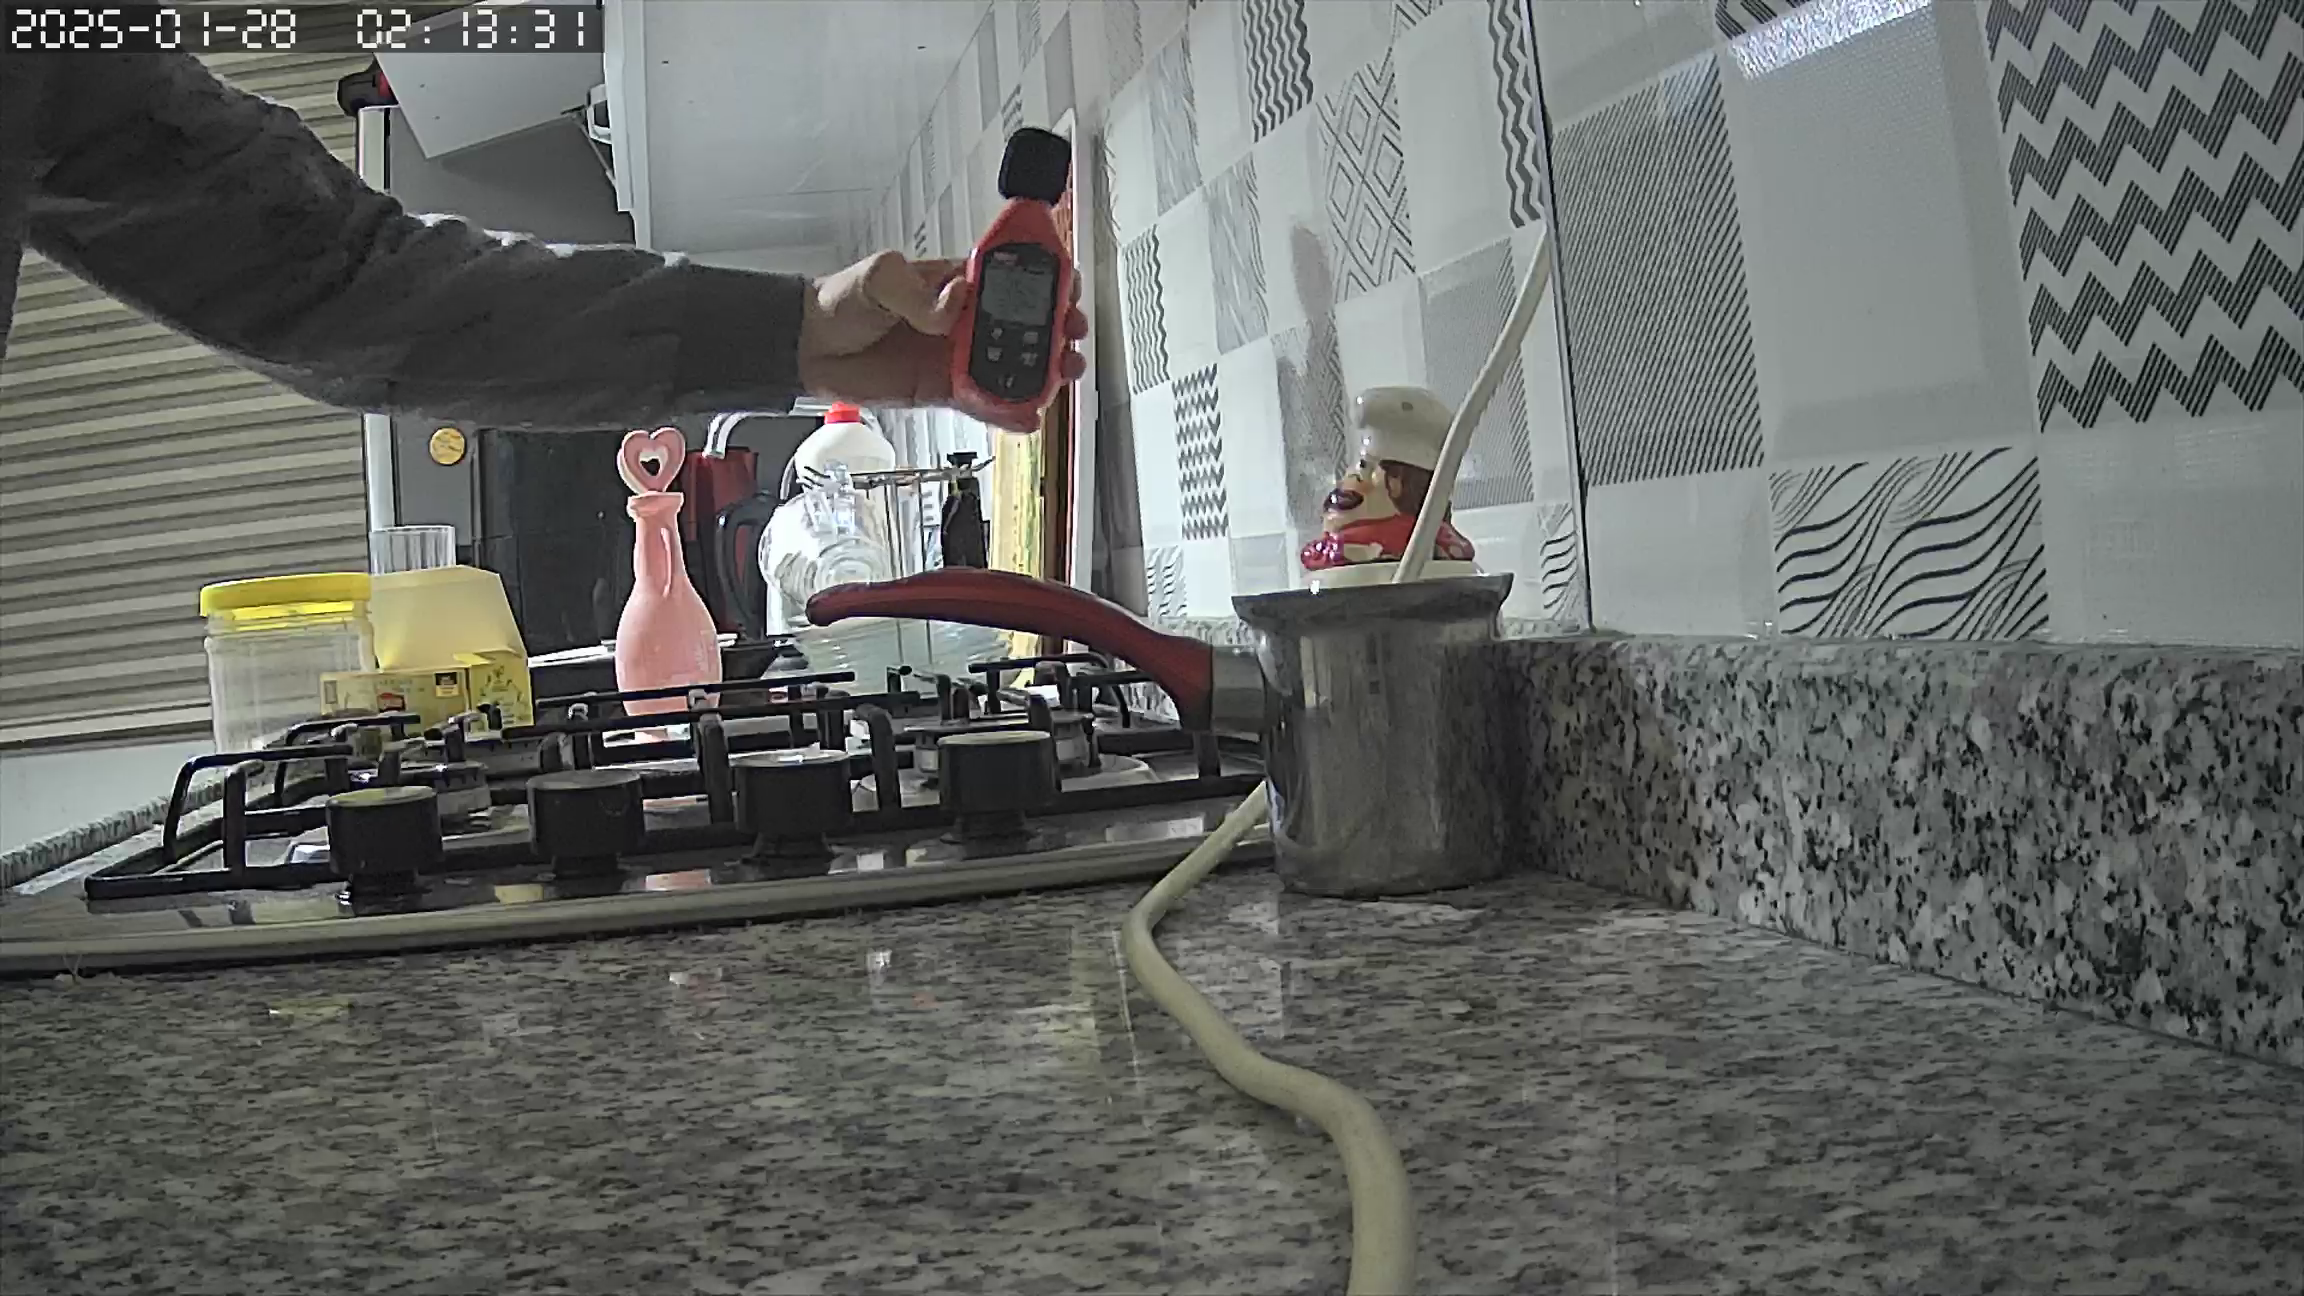screen: (983, 271, 1051, 318)
